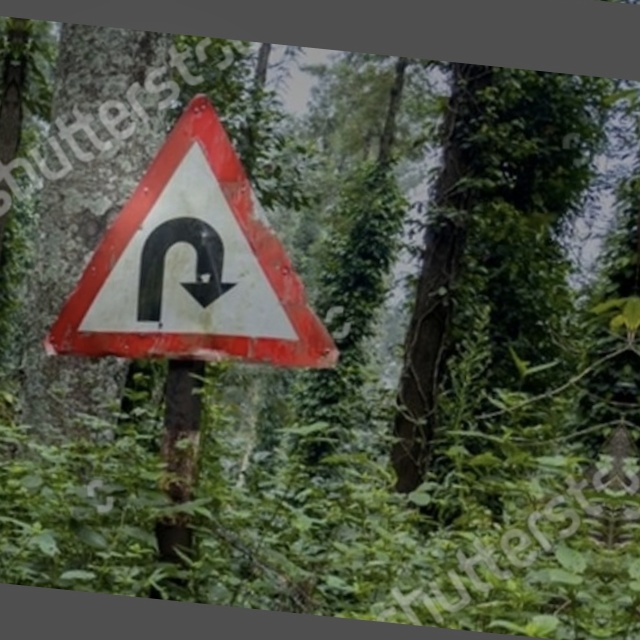Right_Hair_Pin_Bend: (47, 81, 362, 368)
